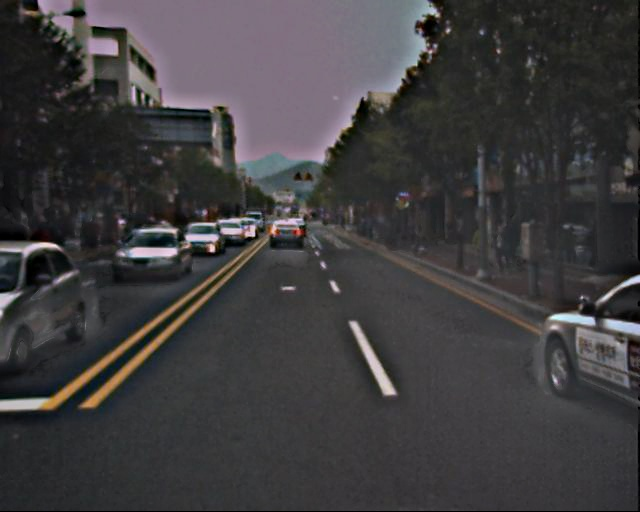person: (486, 219, 509, 274), (500, 217, 521, 267), (562, 228, 577, 265)
